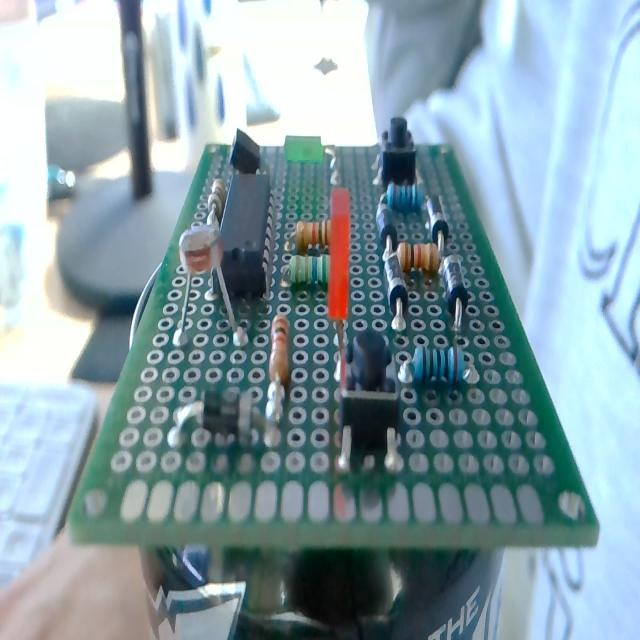IC: (218, 175, 270, 298)
cds: (177, 222, 237, 351)
diode: (176, 383, 274, 451), (441, 253, 469, 319), (383, 246, 408, 318), (427, 194, 449, 246), (377, 199, 398, 251)
led: (327, 190, 351, 407), (281, 132, 344, 187)
resistor: (410, 342, 470, 388), (269, 313, 289, 388), (290, 252, 331, 286), (397, 241, 439, 274), (294, 219, 330, 253), (387, 182, 424, 214), (203, 173, 228, 218)
switch: (333, 327, 408, 479), (380, 118, 416, 186)
transistor: (226, 129, 272, 183)
